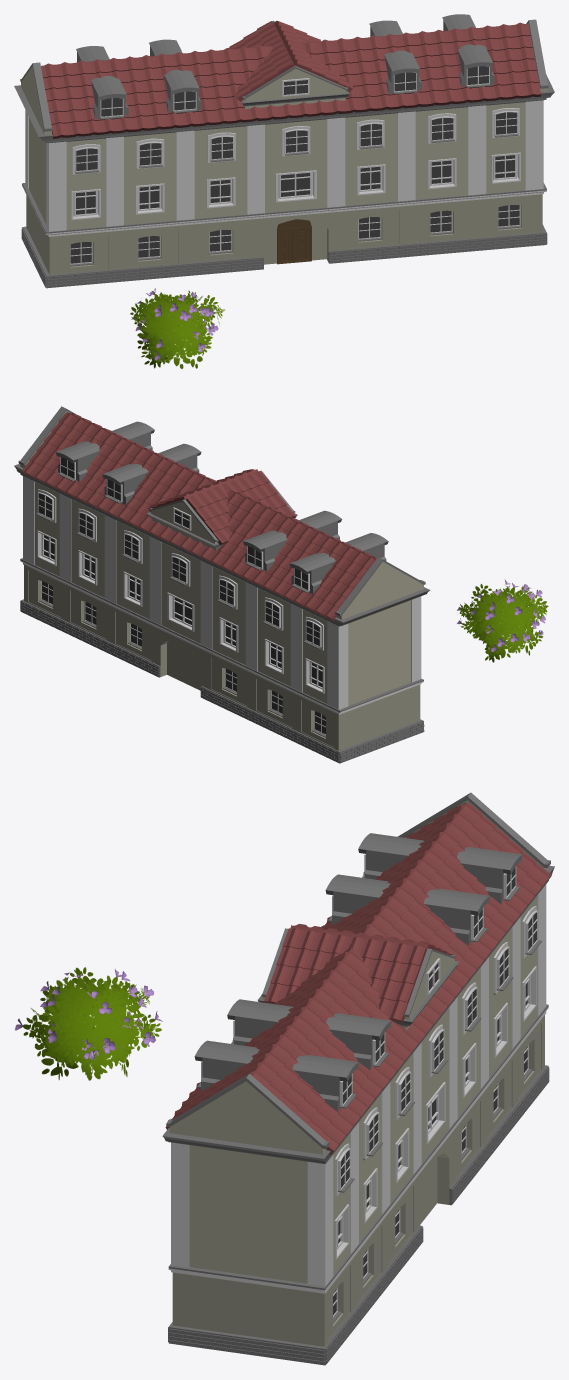
File: home.glb
3 views of the same model, one above another, from view 1: azimuth 30°, elevation 25°; view 2: azimuth 150°, elevation 25°; view 3: azimuth 270°, elevation 25° (orthographic). The views are drawn at different scales.
Visible parts, largest first — view 1: Building1_Large, Bush_Common_Flowers.001[StaticNodePrefab]; view 2: Building1_Large, Bush_Common_Flowers.001[StaticNodePrefab]; view 3: Building1_Large, Bush_Common_Flowers.001[StaticNodePrefab].
Boxes of the visible parts, box(x1,y1,x2,y2) form: Building1_Large: box(14, 14, 554, 288); Bush_Common_Flowers.001[StaticNodePrefab]: box(130, 288, 224, 368); Building1_Large: box(14, 406, 429, 763); Bush_Common_Flowers.001[StaticNodePrefab]: box(457, 579, 548, 662); Building1_Large: box(162, 792, 554, 1365); Bush_Common_Flowers.001[StaticNodePrefab]: box(15, 967, 162, 1080).
Size of what is drawn, in the model's own units: 117 by 48.76 by 81.98.
11 materials, 4 textured.
